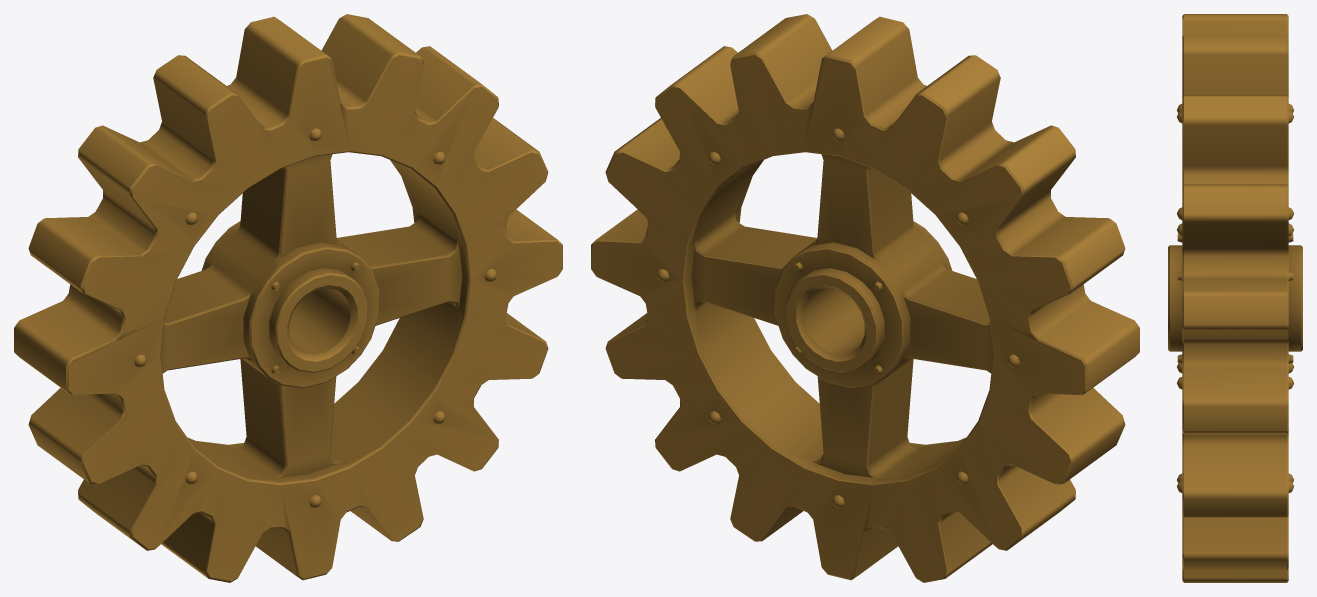
The model's file is gear_spur_16_m1.glb.
3 views of the same model, side by side, from view 1: azimuth 30°, elevation 25°; view 2: azimuth 150°, elevation 25°; view 3: azimuth 270°, elevation 25° (orthographic).
Parts seen in each view (by area): view 1: GearSpur16_M1; view 2: GearSpur16_M1; view 3: GearSpur16_M1.
Boxes of the visible parts, box(x1,y1,x2,y2) form: GearSpur16_M1: box(14, 14, 562, 582); GearSpur16_M1: box(591, 14, 1139, 582); GearSpur16_M1: box(1168, 14, 1302, 582).
Size of the model in its own units: 0.064 by 0.064 by 0.0152.
